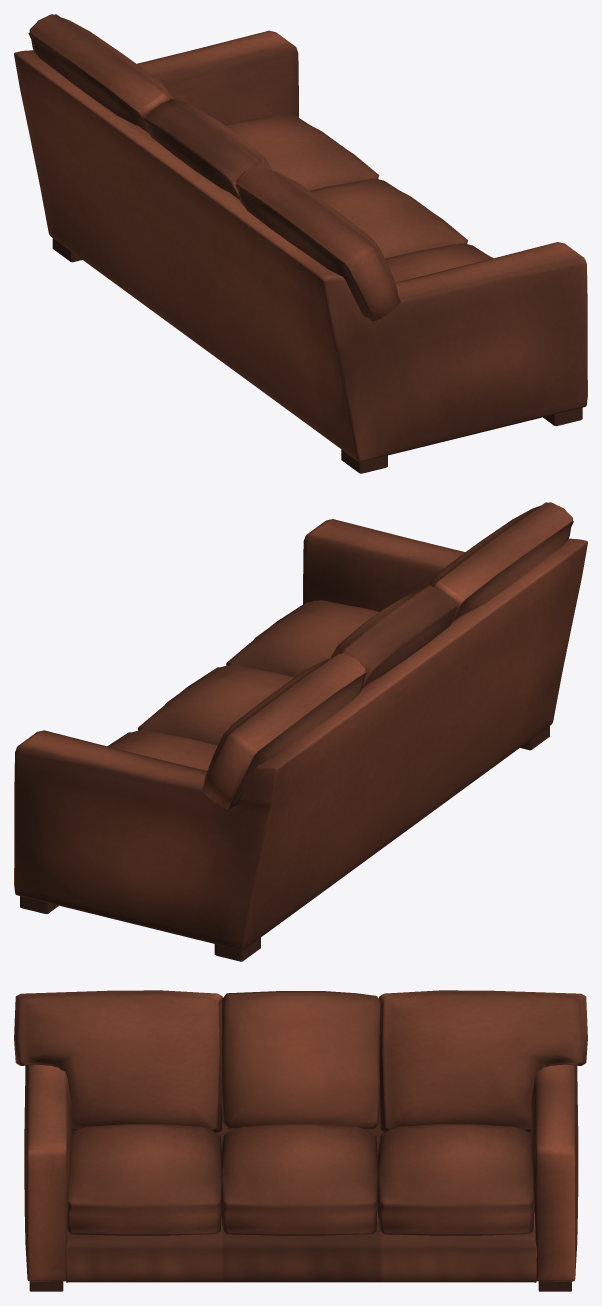
The model's file is Sofa.FBX.
3 views of the same model, one above another, from view 1: azimuth 30°, elevation 25°; view 2: azimuth 150°, elevation 25°; view 3: azimuth 270°, elevation 25° (orthographic). The views are drawn at different scales.
Visible parts, largest first — view 1: LivingRoomSofa; view 2: LivingRoomSofa; view 3: LivingRoomSofa.
Boxes of the visible parts, box(x1,y1,x2,y2) form: LivingRoomSofa: box(14, 14, 587, 473); LivingRoomSofa: box(14, 502, 587, 961); LivingRoomSofa: box(14, 990, 587, 1291).
Size of the model in its own units: 109 by 92.11 by 232.
1 material, 1 textured.
